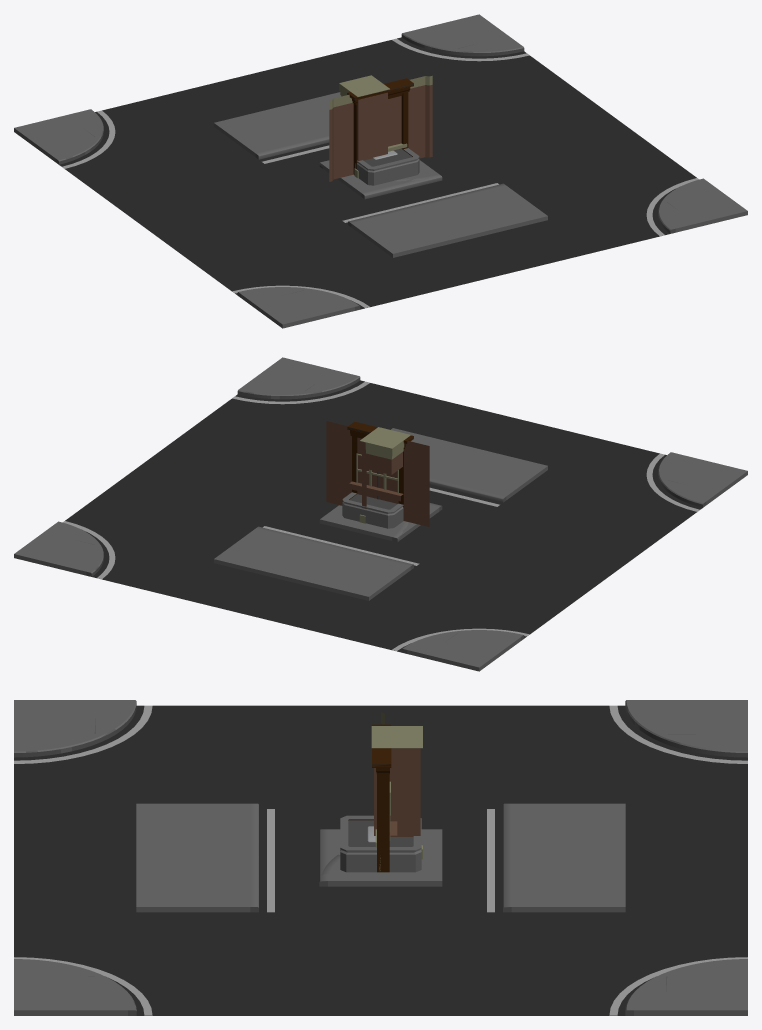
The model's file is kit-downtown.glb.
The picture shows the model from 3 angles, top to bottom: view 1: azimuth 30°, elevation 25°; view 2: azimuth 150°, elevation 25°; view 3: azimuth 270°, elevation 25°; orthographic projection. The views are drawn at different scales.
Visible parts, largest first — view 1: dt_street_4way, dt_street_2lane, dt_brick_inset_window, dt_planter, dt_brick_column_bottom, dt_sidewalk_straight, dt_doorframe_wooden, dt_brick_column_center, dt_brick_column_cap, dt_brick_plain_3; view 2: dt_street_4way, dt_street_2lane, dt_brick_inset_window, dt_brick_column_cap, dt_planter, dt_sidewalk_corner_round, dt_doorframe_wooden, dt_brick_plain_3; view 3: dt_street_4way, dt_street_2lane, dt_planter, dt_sidewalk_straight, dt_brick_column_center, dt_doorframe_wooden, dt_brick_column_cap, dt_sidewalk_corner_round.
Boxes of the visible parts, x1,y1,x2,y2 form: dt_street_4way: (14,14,747,328); dt_street_2lane: (214,92,547,257); dt_brick_inset_window: (329,75,432,181); dt_planter: (356,148,419,185); dt_brick_column_bottom: (354,93,387,178); dt_sidewalk_straight: (320,160,442,199); dt_doorframe_wooden: (347,78,413,174); dt_brick_column_center: (357,92,387,162); dt_brick_column_cap: (339,75,389,96); dt_brick_plain_3: (388,96,401,150); dt_street_4way: (14,357,747,671); dt_street_2lane: (214,428,547,600); dt_brick_inset_window: (326,421,429,526); dt_brick_column_cap: (360,427,410,474); dt_planter: (342,492,403,528); dt_sidewalk_corner_round: (319,505,408,542); dt_doorframe_wooden: (347,421,413,520); dt_brick_plain_3: (357,437,398,503); dt_street_4way: (14,700,747,1015); dt_street_2lane: (136,803,625,912); dt_planter: (340,815,421,872); dt_sidewalk_straight: (319,829,442,886); dt_brick_column_center: (374,748,420,836); dt_doorframe_wooden: (372,724,391,872); dt_brick_column_cap: (371,726,422,748); dt_sidewalk_corner_round: (321,833,442,876).
Size of the model in its own units: 18 by 3.16 by 18.
